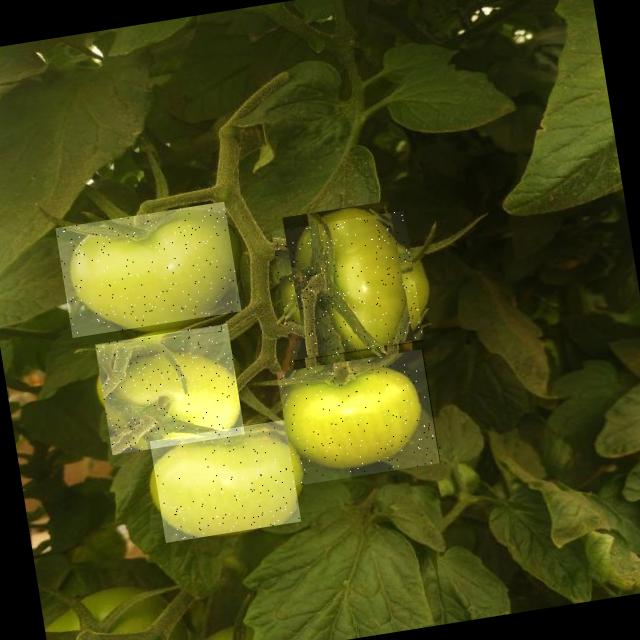Unripe Tomato: (55, 202, 242, 338), (272, 211, 426, 364), (277, 349, 443, 486), (95, 324, 245, 456), (150, 420, 301, 543)
